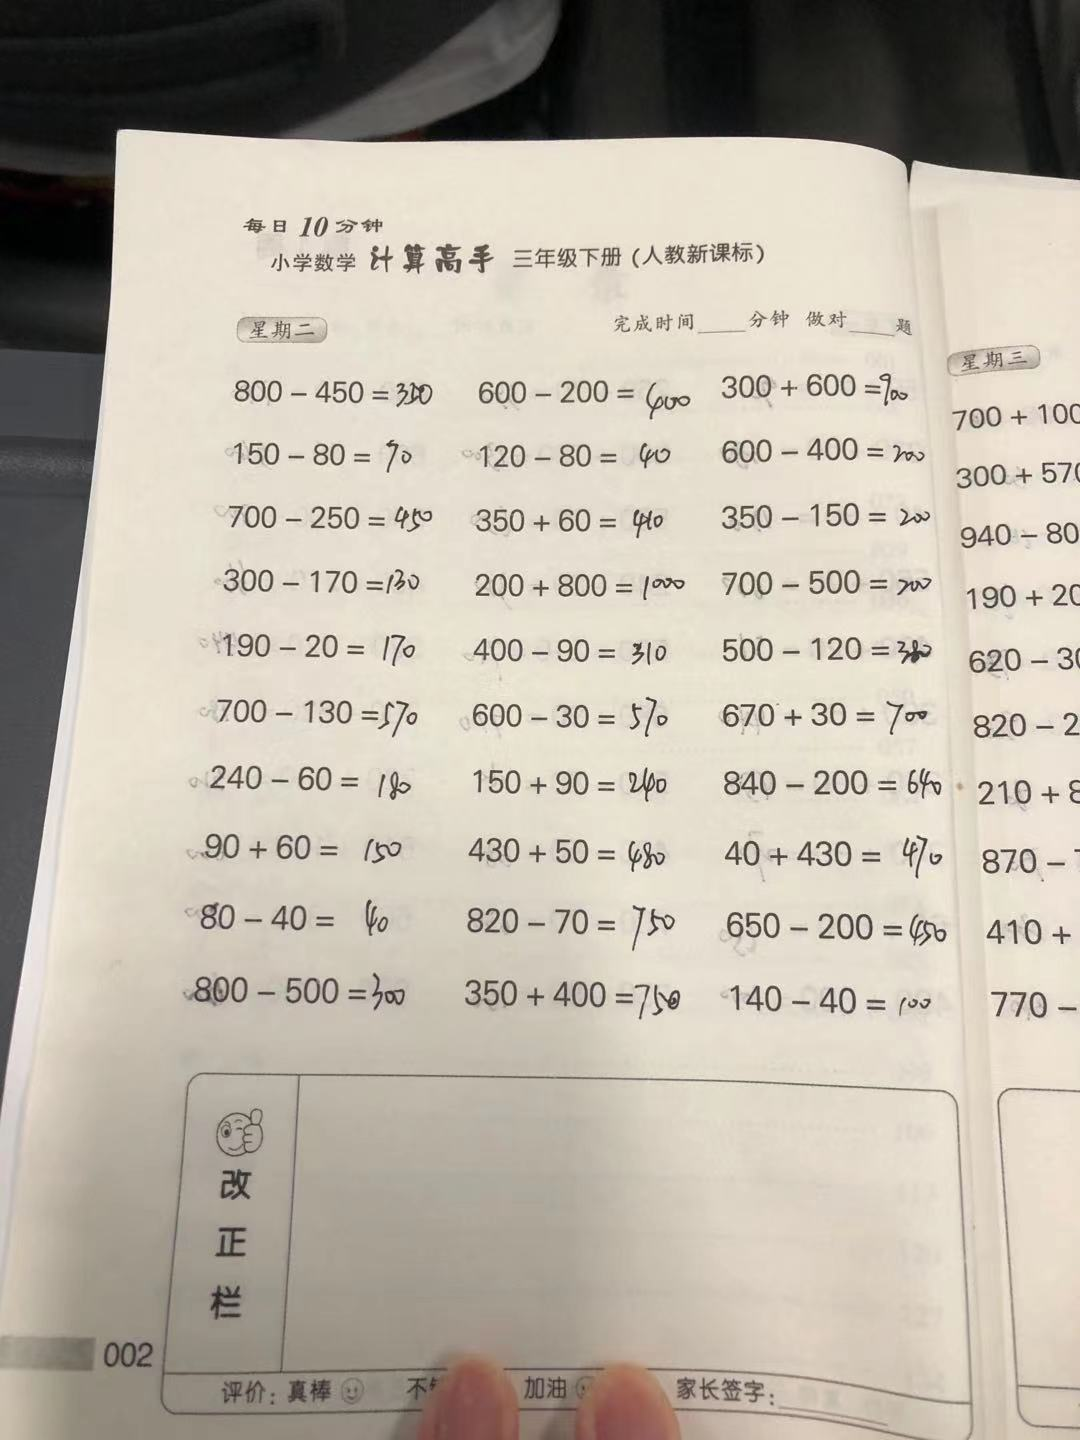equation: (219, 357, 445, 422), (454, 969, 684, 1030), (211, 683, 424, 738), (185, 896, 411, 947), (722, 904, 961, 950), (208, 754, 424, 805), (718, 830, 956, 875), (199, 827, 416, 875), (192, 969, 412, 1017), (469, 371, 699, 415), (221, 495, 447, 540), (729, 976, 933, 1024), (720, 764, 955, 805), (465, 900, 677, 945), (718, 369, 921, 413), (719, 431, 928, 473), (718, 633, 952, 670), (473, 500, 684, 541), (471, 697, 680, 738), (471, 633, 672, 675), (476, 564, 694, 602), (219, 559, 424, 600), (465, 829, 670, 870), (467, 765, 684, 802), (719, 566, 940, 600), (481, 435, 676, 473), (712, 698, 945, 729), (218, 626, 424, 660), (230, 437, 428, 472), (719, 505, 939, 531)
